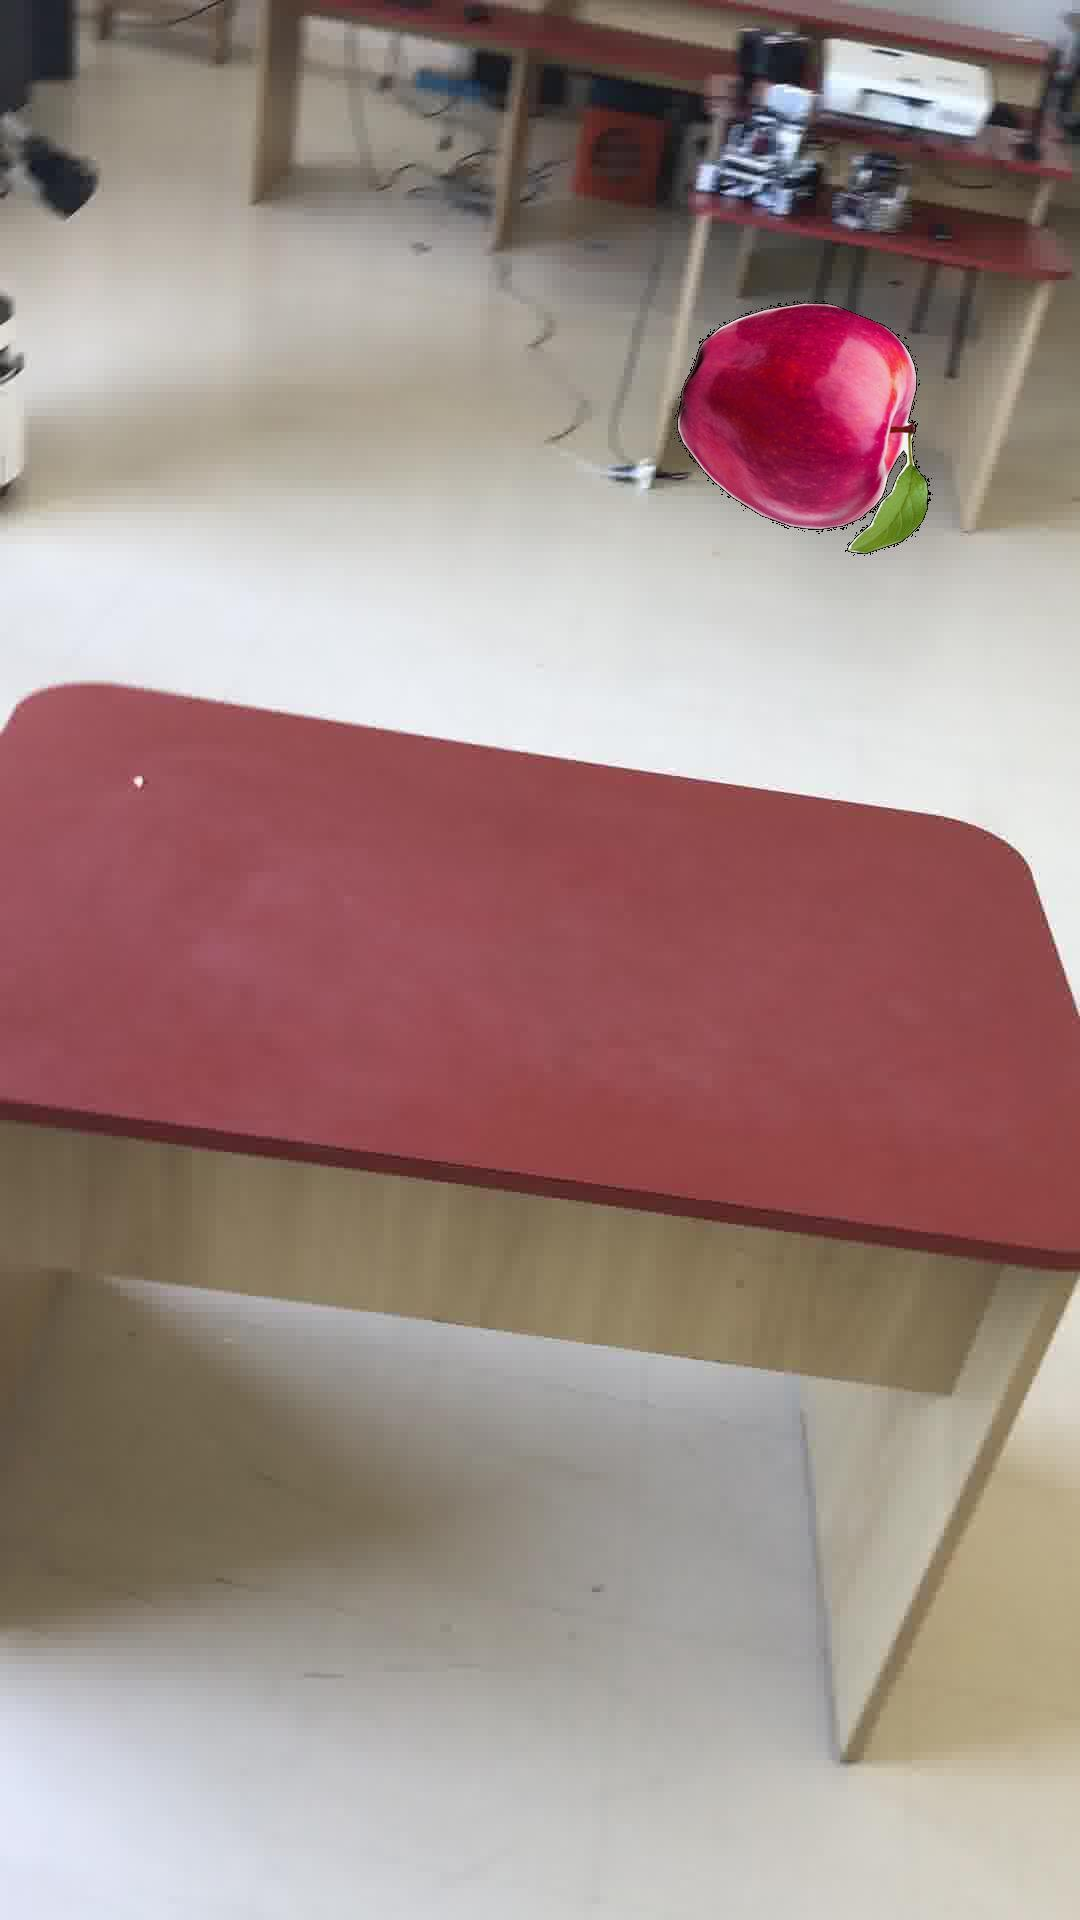apple: (675, 302, 930, 554)
